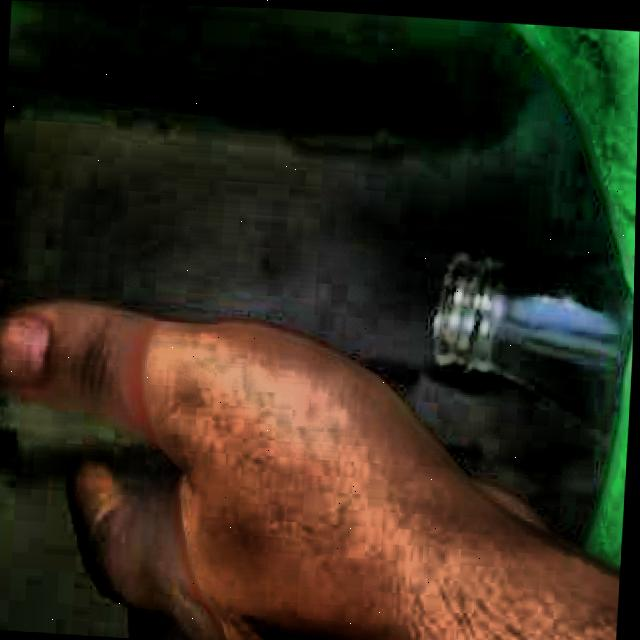glass: (436, 251, 635, 420)
